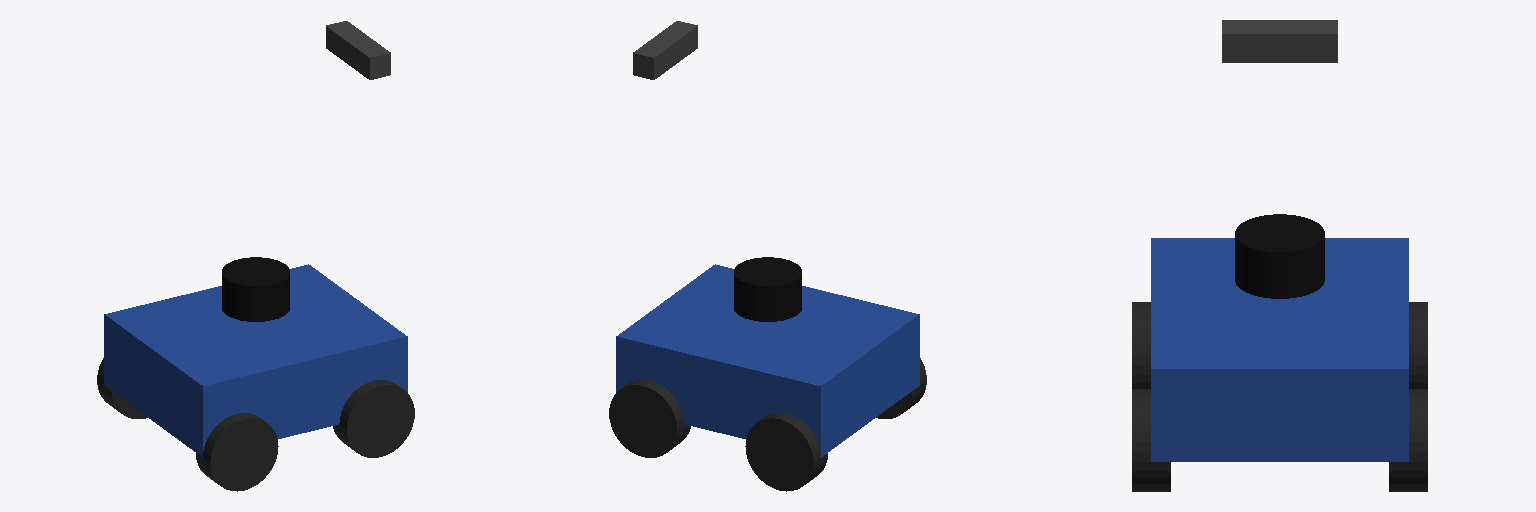
The robot description file, URDF, robot "mecanum_robot":
<robot name="mecanum_robot">
  <link name="base_footprint" />
  <link name="base_link">
    <inertial>
      <origin xyz="0 0 0.04" rpy="0 0 0" />
      <mass value="3.5" />
      <inertia ixx="0.01598" ixy="0" ixz="0" iyy="0.02473" iyz="0" izz="0.03700" />
    </inertial>
    <visual>
      <origin xyz="0 0 0.04" rpy="0 0 0" />
      <geometry>
        <box size="0.24 0.20 0.08" />
      </geometry>
      <material name="blue">
        <color rgba="0.2 0.35 0.65 1.0" />
      </material>
    </visual>
    <collision>
      <origin xyz="0 0 0.04" rpy="0 0 0" />
      <geometry>
        <box size="0.24 0.20 0.08" />
      </geometry>
    </collision>
  </link>
  <joint name="base_footprint_joint" type="fixed">
    <parent link="base_footprint" />
    <child link="base_link" />
    <origin xyz="0 0 0.04" rpy="0 0 0" />
  </joint>
  <link name="imu_link" />
  <joint name="imu_joint" type="fixed">
    <parent link="base_link" />
    <child link="imu_link" />
    <origin xyz="0 0 0.06" rpy="0 0 0" />
  </joint>
  <link name="base_scan">
    <visual>
      <geometry>
        <cylinder radius="0.035" length="0.04" />
      </geometry>
      <material name="dark">
        <color rgba="0.1 0.1 0.1 1.0" />
      </material>
    </visual>
    <collision>
      <geometry>
        <cylinder radius="0.035" length="0.04" />
      </geometry>
    </collision>
  </link>
  <joint name="lidar_joint" type="fixed">
    <parent link="base_link" />
    <child link="base_scan" />
    <origin xyz="0 0 0.12" rpy="0 0 0" />
  </joint>
  <link name="camera_link">
    <visual>
      <geometry>
        <box size="0.025 0.09 0.025" />
      </geometry>
      <material name="grey">
        <color rgba="0.3 0.3 0.3 1.0" />
      </material>
    </visual>
  </link>
  <joint name="camera_joint" type="fixed">
    <parent link="base_link" />
    <child link="camera_link" />
    <origin xyz=".12 0 0.36000000000000004" rpy="0 0 0" />
  </joint>
  <link name="front_left_wheel">
    <visual>
      <geometry>
        <cylinder radius="0.04" length="0.03" />
      </geometry>
      <material name="black">
        <color rgba="0.2 0.2 0.2 1.0" />
      </material>
    </visual>
  </link>
  <joint name="front_left_wheel_joint" type="continuous">
    <parent link="base_link" />
    <child link="front_left_wheel" />
    <origin xyz="0.08 0.10 0.0" rpy="-1.5707963 0 0" />
    <axis xyz="0 0 1" />
  </joint>
  <link name="front_right_wheel">
    <visual>
      <geometry>
        <cylinder radius="0.04" length="0.03" />
      </geometry>
      <material name="black">
        <color rgba="0.2 0.2 0.2 1.0" />
      </material>
    </visual>
  </link>
  <joint name="front_right_wheel_joint" type="continuous">
    <parent link="base_link" />
    <child link="front_right_wheel" />
    <origin xyz="0.08 -0.10 0.0" rpy="-1.5707963 0 0" />
    <axis xyz="0 0 1" />
  </joint>
  <link name="rear_left_wheel">
    <visual>
      <geometry>
        <cylinder radius="0.04" length="0.03" />
      </geometry>
      <material name="black">
        <color rgba="0.2 0.2 0.2 1.0" />
      </material>
    </visual>
  </link>
  <joint name="rear_left_wheel_joint" type="continuous">
    <parent link="base_link" />
    <child link="rear_left_wheel" />
    <origin xyz="-0.08 0.10 0.0" rpy="-1.5707963 0 0" />
    <axis xyz="0 0 1" />
  </joint>
  <link name="rear_right_wheel">
    <visual>
      <geometry>
        <cylinder radius="0.04" length="0.03" />
      </geometry>
      <material name="black">
        <color rgba="0.2 0.2 0.2 1.0" />
      </material>
    </visual>
  </link>
  <joint name="rear_right_wheel_joint" type="continuous">
    <parent link="base_link" />
    <child link="rear_right_wheel" />
    <origin xyz="-0.08 -0.10 0.0" rpy="-1.5707963 0 0" />
    <axis xyz="0 0 1" />
  </joint>
</robot>

--- Render facts (derived) ---
Views: 3 orthographic renders of the robot side by side, from view 1: azimuth 30°, elevation 25°; view 2: azimuth 150°, elevation 25°; view 3: azimuth 270°, elevation 25°.
Robot: mecanum_robot — 9 links, 8 joints (4 continuous, 4 fixed); root link base_footprint; default pose: all joints at 0.
Visible links, largest first — view 1: base_link, rear_right_wheel, front_right_wheel, base_scan, camera_link, rear_left_wheel; view 2: base_link, rear_left_wheel, front_left_wheel, base_scan, camera_link, rear_right_wheel; view 3: base_link, base_scan, camera_link, front_left_wheel, front_right_wheel, rear_left_wheel, rear_right_wheel.
Link boxes in pixels (x1,y1,x2,y2): base_link: [104, 264, 407, 457]; rear_right_wheel: [196, 413, 278, 491]; front_right_wheel: [333, 380, 414, 457]; base_scan: [222, 257, 289, 321]; camera_link: [326, 21, 390, 79]; rear_left_wheel: [97, 358, 147, 418]; base_link: [616, 264, 919, 457]; rear_left_wheel: [745, 413, 827, 491]; front_left_wheel: [609, 380, 690, 457]; base_scan: [734, 257, 801, 321]; camera_link: [633, 21, 697, 79]; rear_right_wheel: [876, 358, 926, 418]; base_link: [1151, 238, 1408, 461]; base_scan: [1235, 214, 1324, 298]; camera_link: [1222, 20, 1337, 62]; front_left_wheel: [1389, 389, 1427, 491]; front_right_wheel: [1132, 389, 1170, 491]; rear_left_wheel: [1409, 302, 1427, 388]; rear_right_wheel: [1132, 302, 1150, 388].
Size in the robot's own frame: 0.2525 by 0.23 by 0.4125 metres.
Geometry: primitives only (box / cylinder / sphere), no mesh files.
